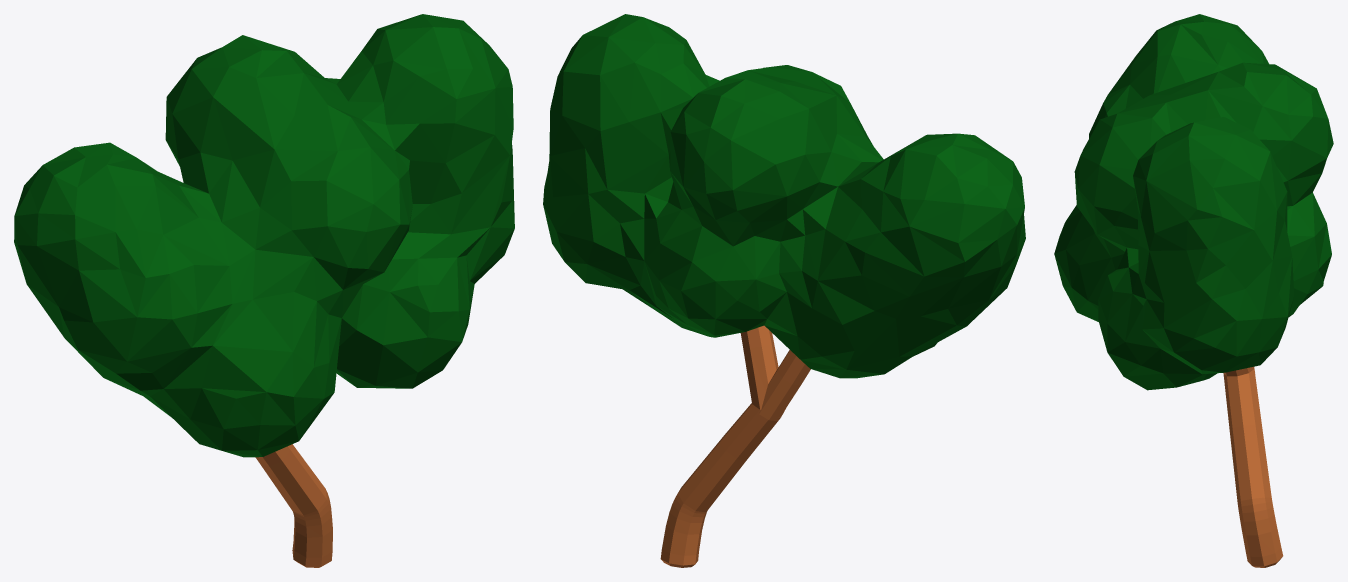
Rendered from tree.fbx.
3 views of the same model, side by side, from view 1: azimuth 30°, elevation 25°; view 2: azimuth 150°, elevation 25°; view 3: azimuth 270°, elevation 25° (orthographic). The views are drawn at different scales.
Visible parts, largest first — view 1: Metaball, Sweep_2; view 2: Metaball, Sweep_2; view 3: Metaball, Sweep_2.
Part boxes in pixels (box(x1,y1,x2,y2)): Metaball: box(14, 14, 514, 457); Sweep_2: box(255, 444, 332, 567); Metaball: box(543, 14, 1025, 378); Sweep_2: box(660, 325, 810, 567); Metaball: box(1054, 14, 1333, 390); Sweep_2: box(1223, 366, 1283, 567).
Size of the model in its own units: 699 by 732 by 390.
